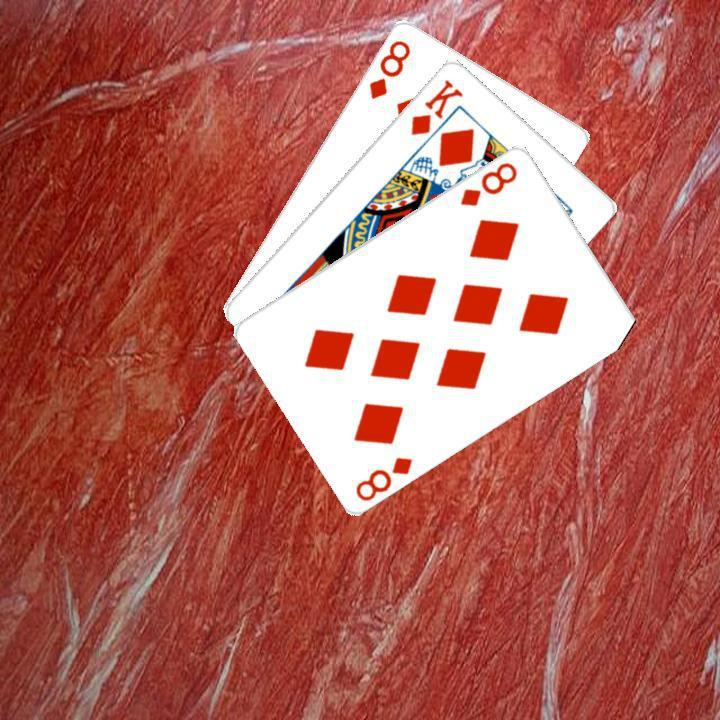8: (351, 451, 415, 503), (455, 157, 520, 208), (364, 35, 413, 101)
K: (405, 74, 465, 137)
